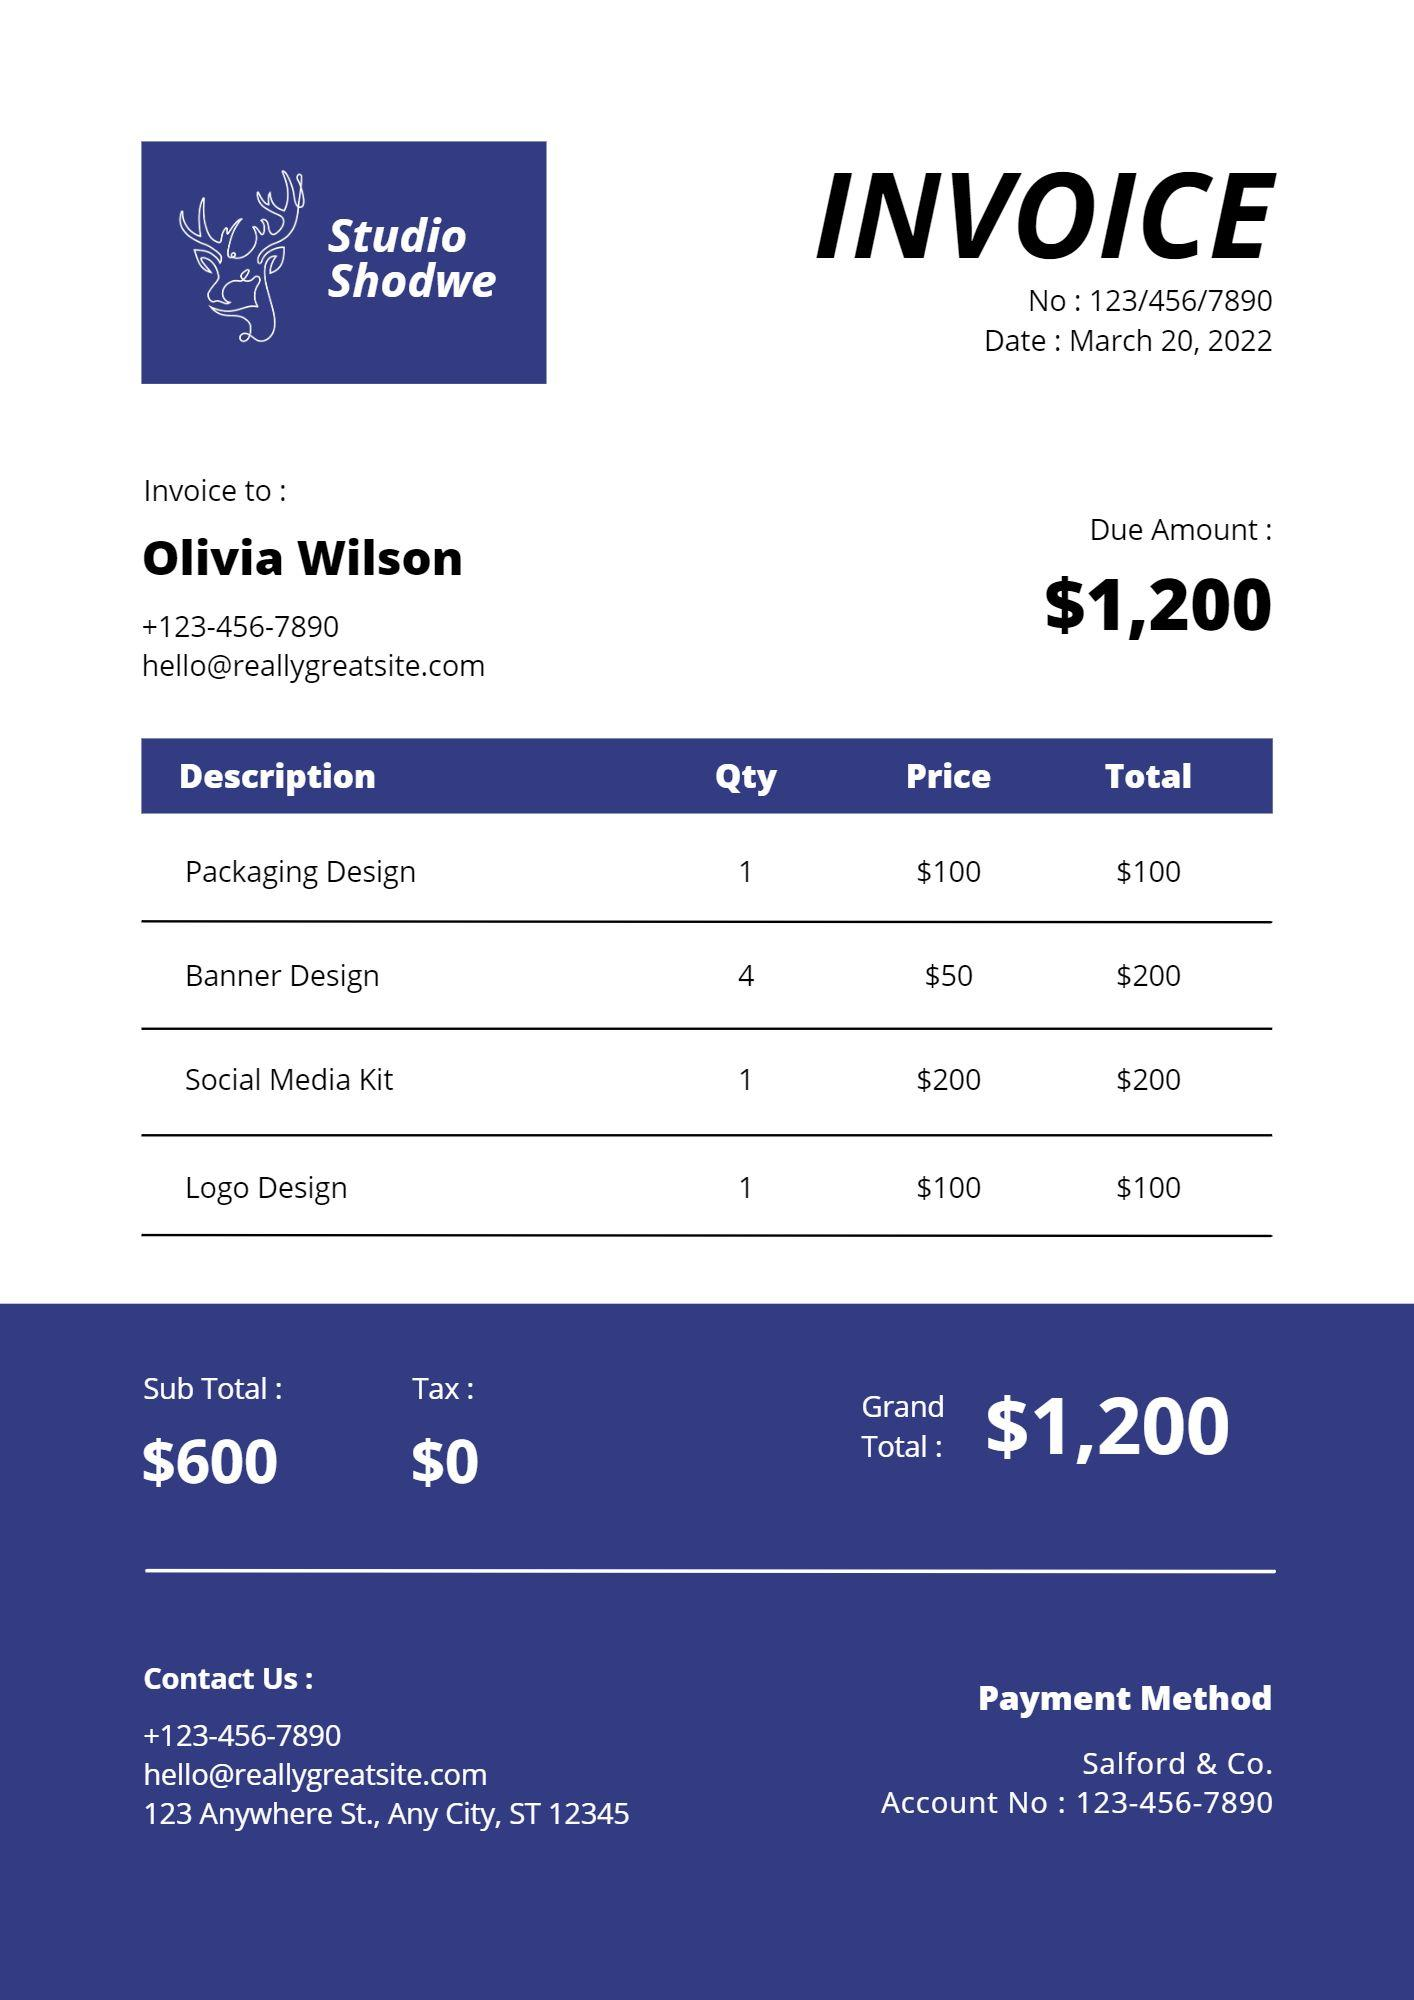ROI: (148, 731, 1253, 1249)
